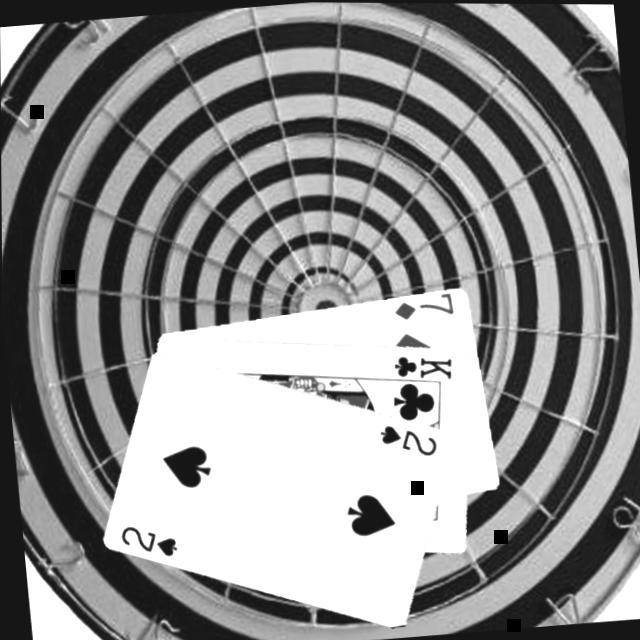2S: (376, 416, 441, 461), (117, 517, 182, 562)
7D: (390, 289, 457, 322)
KC: (383, 346, 456, 389)
